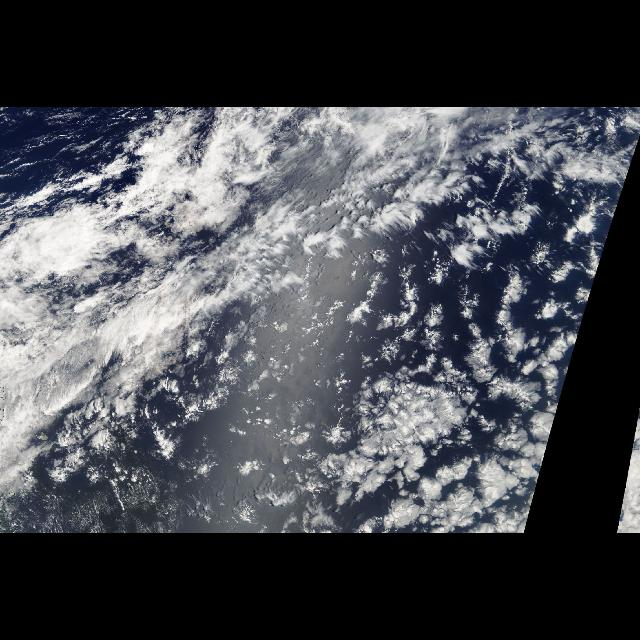Flower: (250, 147, 636, 531), (614, 430, 636, 530)
